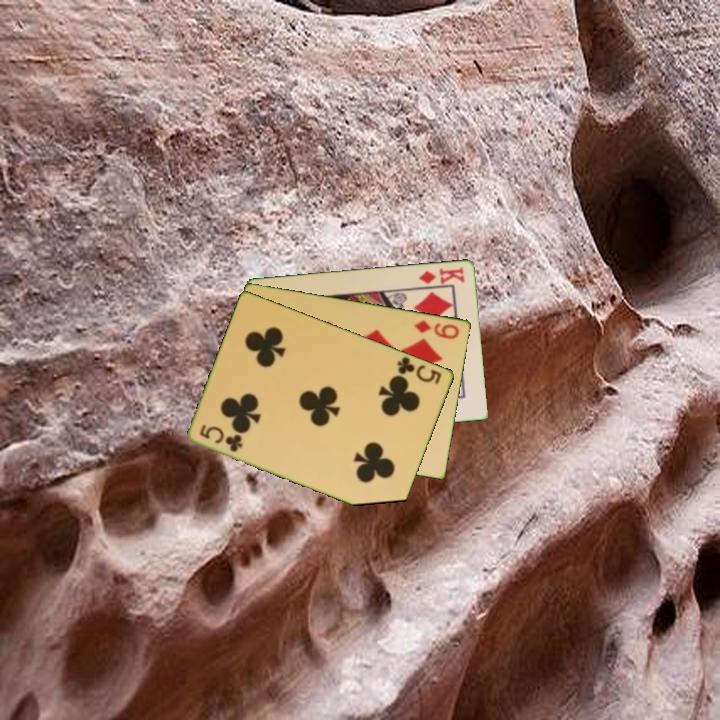5c: (196, 420, 246, 455), (394, 353, 445, 387)
9d: (411, 316, 462, 342)
Kd: (415, 263, 468, 287)
